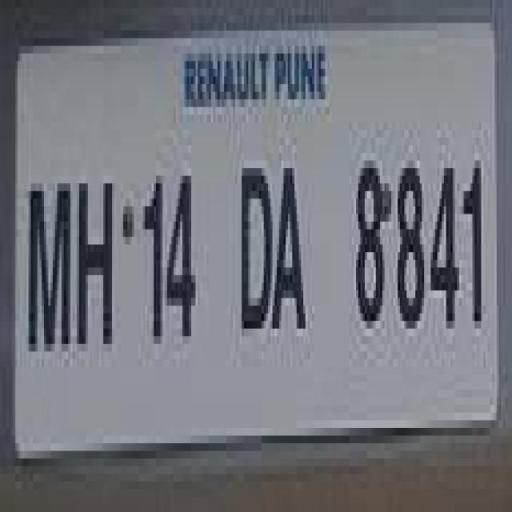number plate: (17, 7, 512, 466)
